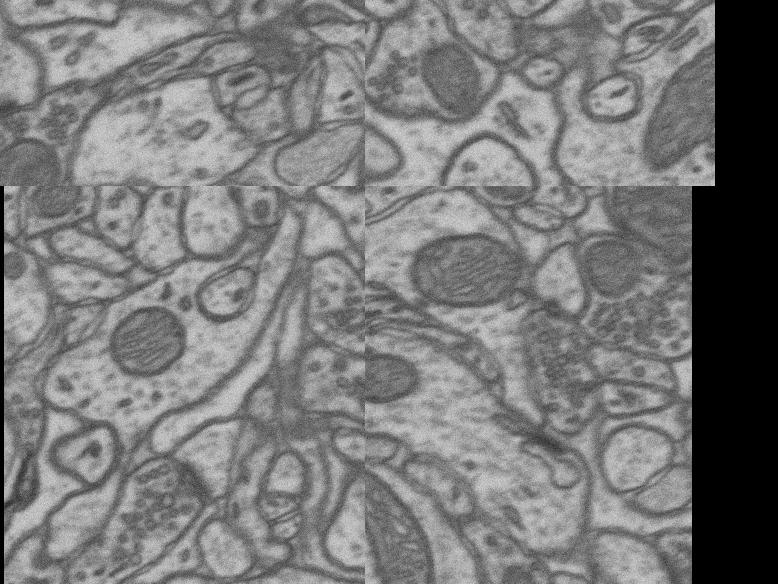mitochondria: (629, 34, 715, 182), (404, 226, 528, 310), (365, 458, 436, 584), (98, 298, 198, 387), (605, 186, 692, 276), (412, 27, 486, 115), (0, 125, 73, 186), (365, 347, 428, 407), (578, 233, 636, 296), (18, 186, 94, 221), (492, 559, 554, 584), (621, 0, 694, 19), (350, 357, 365, 435)
